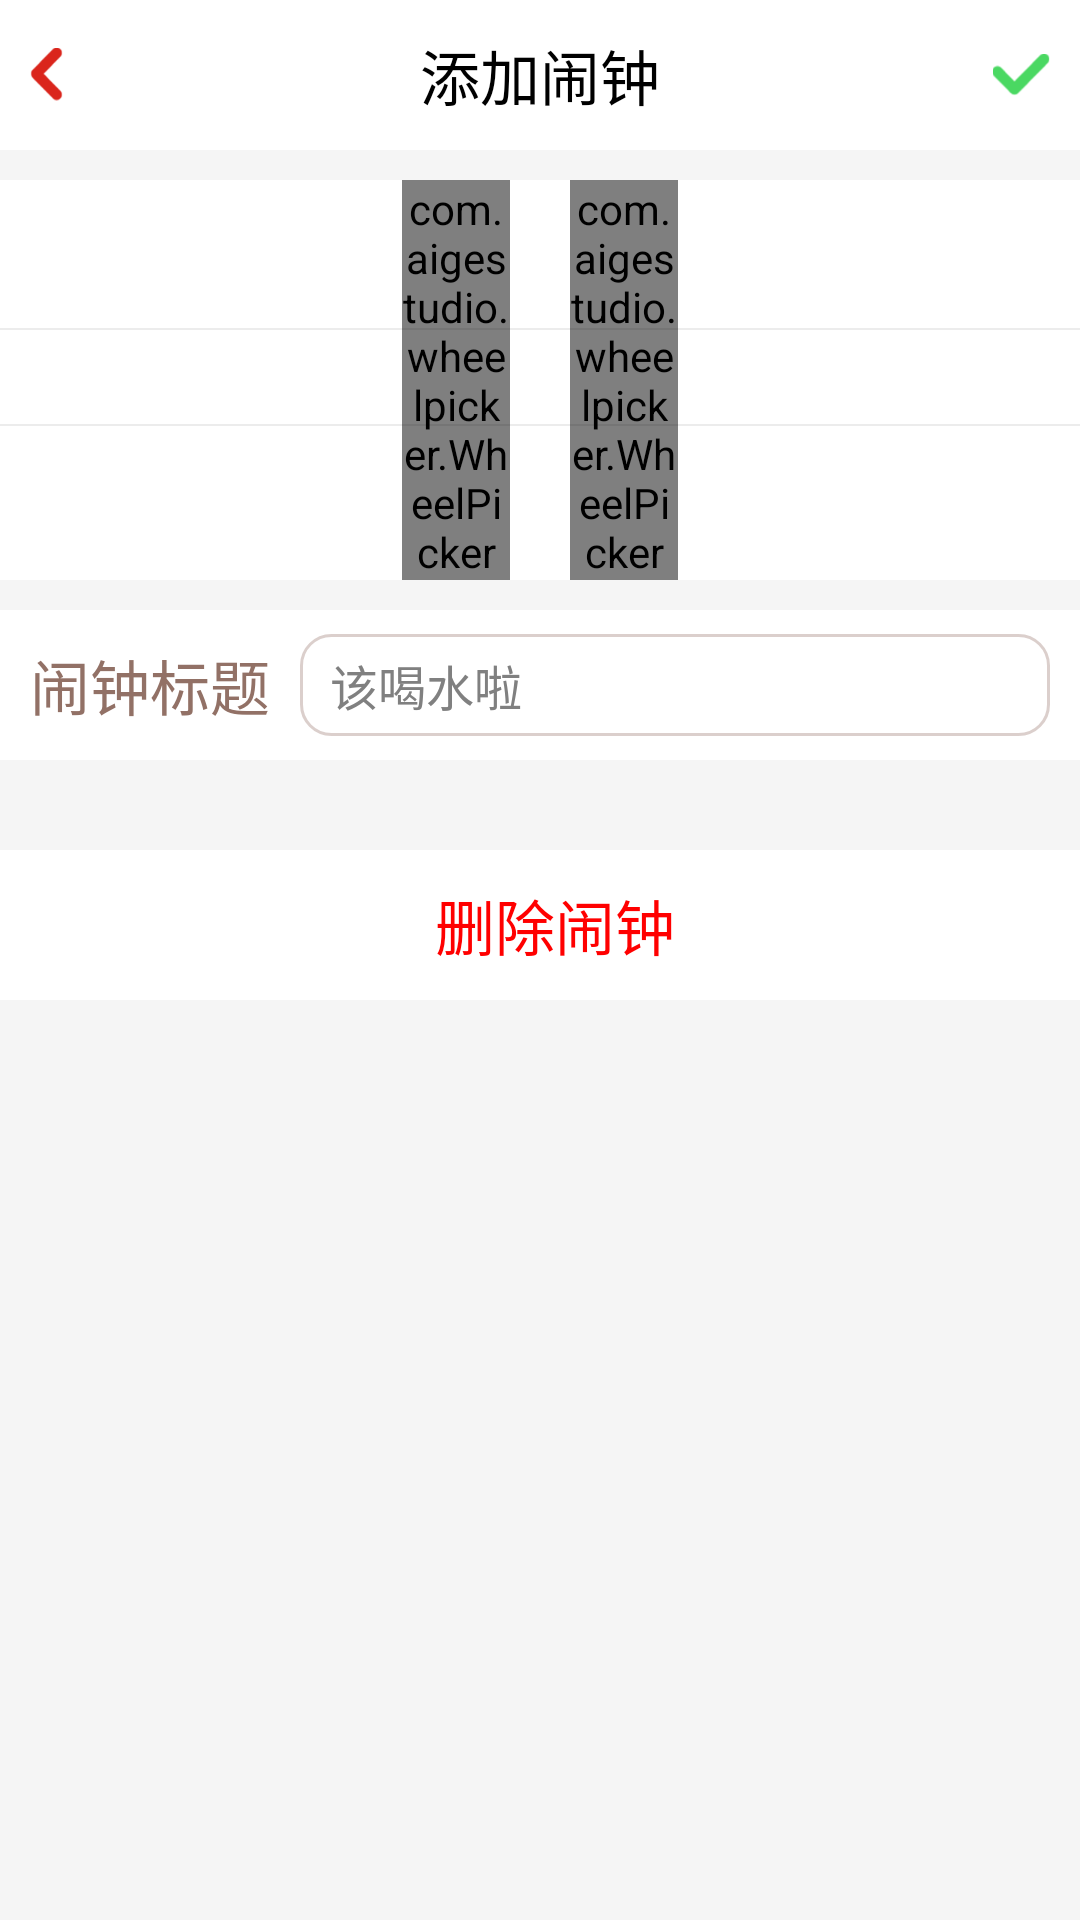

Screen size 1080 x 1920. Icon name, then its center in pixels as [x,y]:
bar back: [46,74]
bar save: [1021,74]
